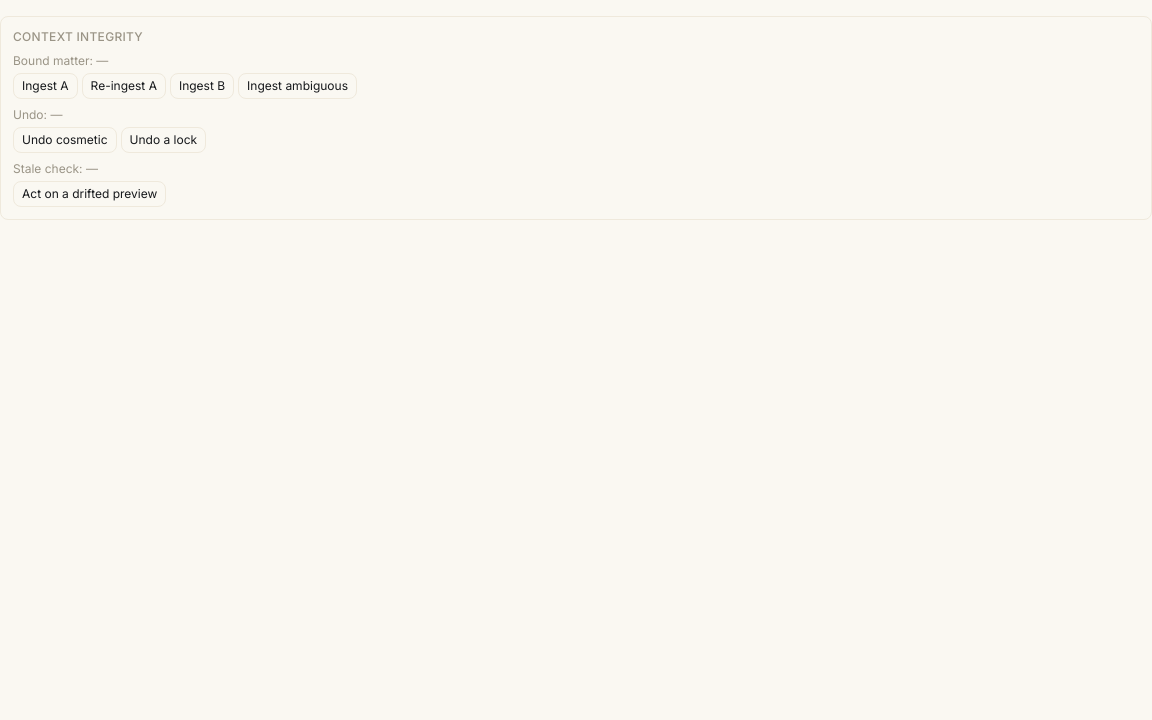
it: undo-by-band, live › a hard-stop undo confirms and records a {type:"undo"} reversal
Step 1. Click the button with test id "ci-undo-hardstop" → (163, 140), box [120,127,206,153]
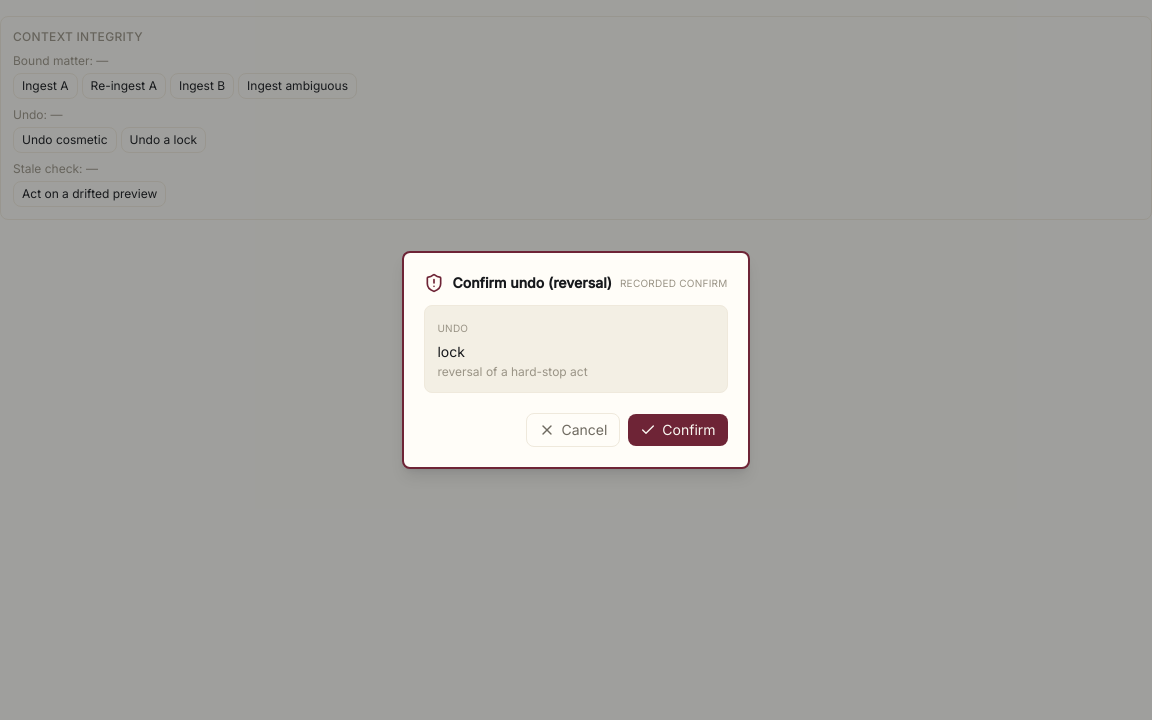
Now the element with test id "confirm-overlay" is shown
Step 2. Click the button with test id "confirm-accept" → (678, 430), box [628,414,728,446]
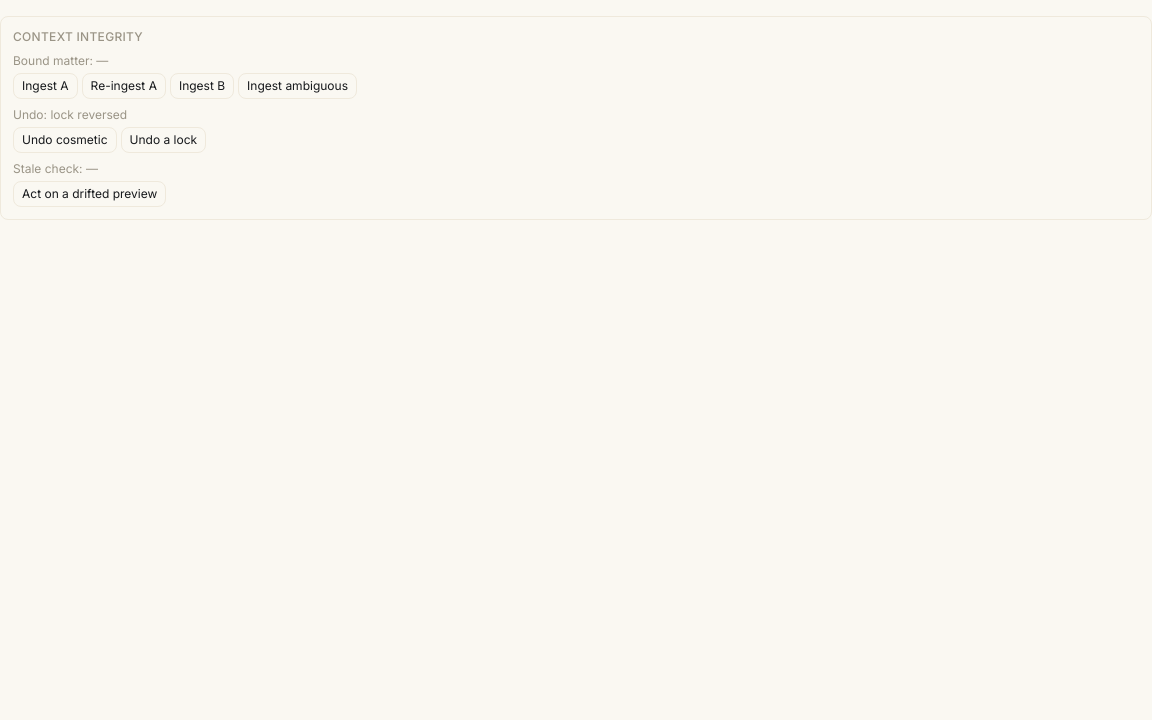
Now the text with test id "ci-undolog" shows "lock reversed", box [50,107,127,122]
